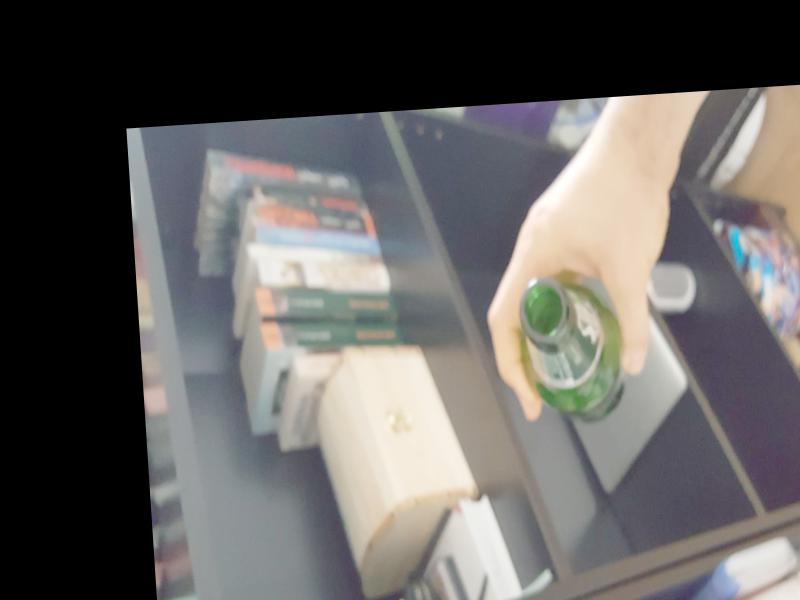Beer: (518, 271, 633, 426)
